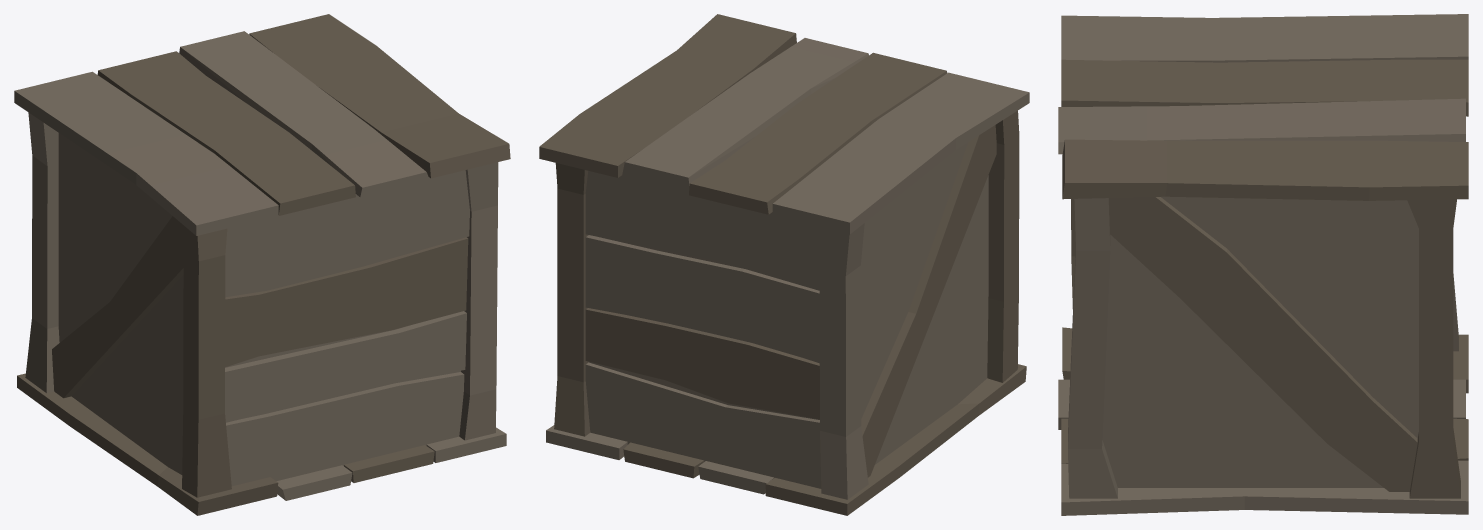
3 views of the same model, side by side, from view 1: azimuth 30°, elevation 25°; view 2: azimuth 150°, elevation 25°; view 3: azimuth 270°, elevation 25° (orthographic). The views are drawn at different scales.
Parts seen in each view (by area): view 1: Box; view 2: Box; view 3: Box.
Part boxes in pixels (left/top/right/bottom): Box: left=14, top=14, right=510, bottom=515; Box: left=539, top=14, right=1029, bottom=515; Box: left=1058, top=14, right=1468, bottom=515.
Size of the model in its own units: 0.6002 by 0.5454 by 0.6.
1 material, 1 textured.
